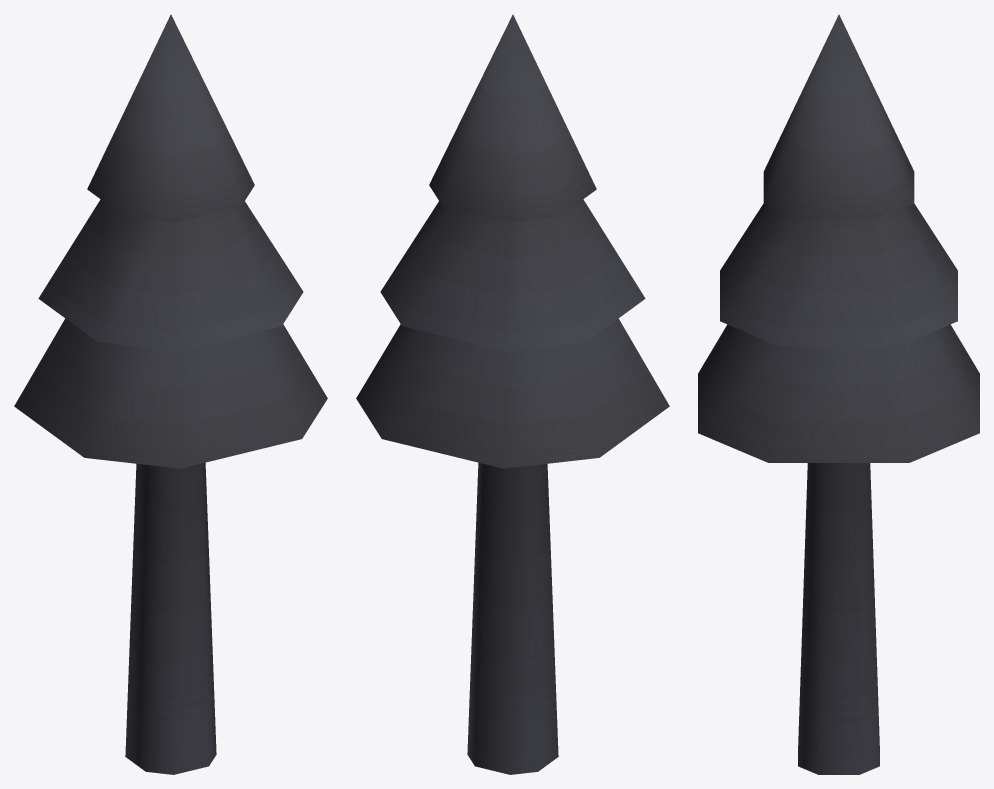
The model's file is tree-tall-large-col.glb.
The picture shows the model from 3 angles, left to right: view 1: azimuth 30°, elevation 25°; view 2: azimuth 150°, elevation 25°; view 3: azimuth 270°, elevation 25°; orthographic projection.
Parts seen in each view (by area): view 1: tree-tall-large-col; view 2: tree-tall-large-col; view 3: tree-tall-large-col.
Part boxes in pixels (box(x1,y1,x2,y2)): tree-tall-large-col: box(14, 14, 327, 774); tree-tall-large-col: box(356, 14, 669, 774); tree-tall-large-col: box(698, 14, 979, 774).
Size of the model in its own units: 1 by 2.91 by 1.
1 material, 1 textured.
